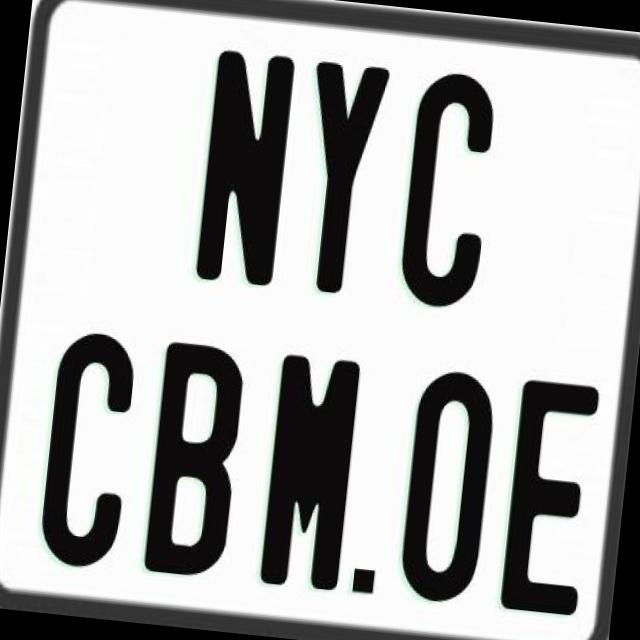0: (394, 366, 504, 606)
B: (140, 339, 248, 586)
C: (35, 326, 146, 573), (395, 68, 504, 316)
E: (496, 373, 598, 610)
M: (255, 351, 356, 590)
N: (189, 48, 293, 294)
Y: (288, 56, 391, 300)
